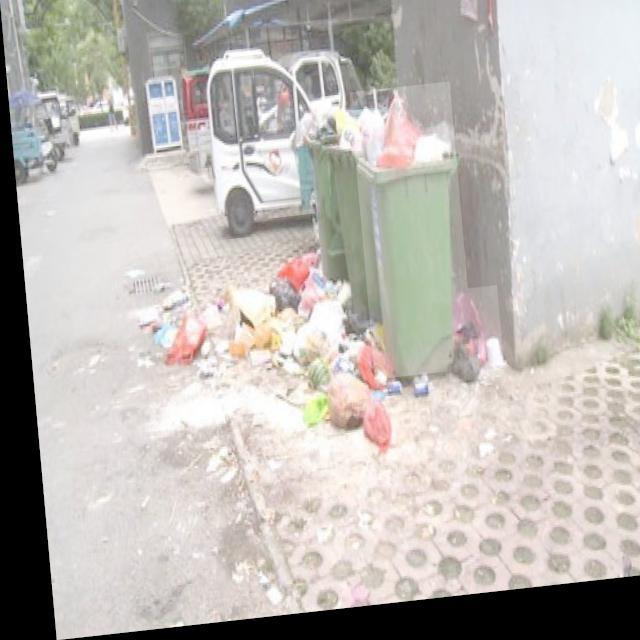garbage: (127, 244, 426, 478), (436, 296, 497, 392)
overflow: (348, 92, 468, 387), (318, 94, 389, 328), (302, 116, 342, 287)
